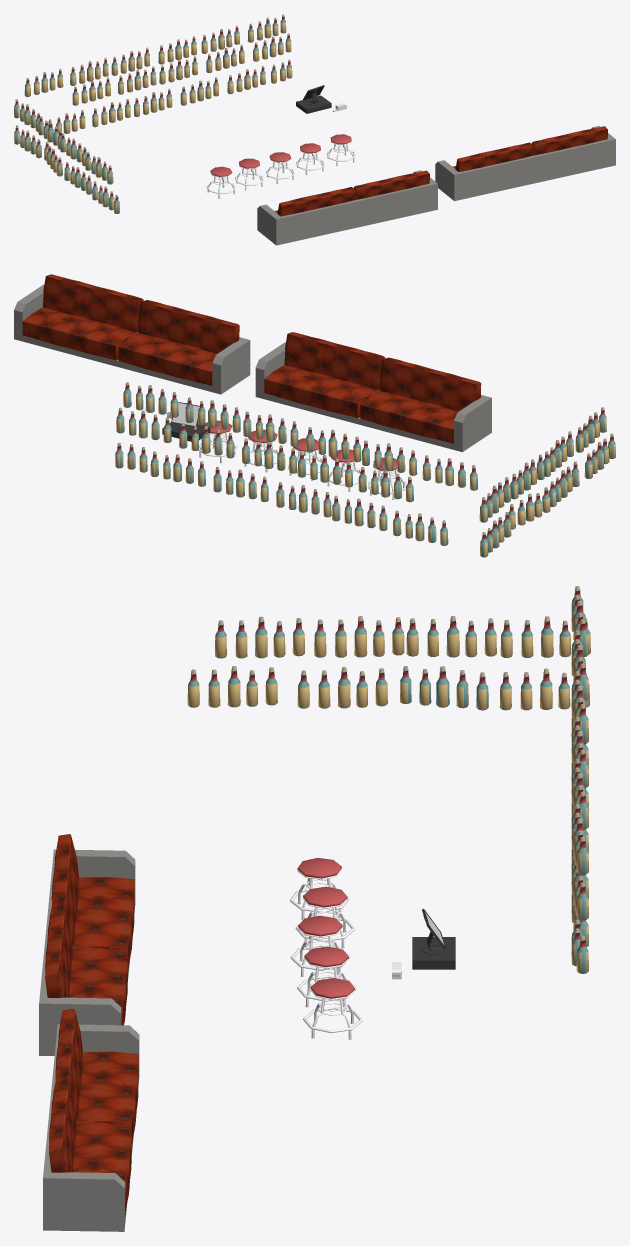
Rendered from FrontBar.fbx.
3 views of the same model, one above another, from view 1: azimuth 30°, elevation 25°; view 2: azimuth 150°, elevation 25°; view 3: azimuth 270°, elevation 25° (orthographic). The views are drawn at different scales.
Visible parts, largest first — view 1: FrontBar; view 2: FrontBar; view 3: FrontBar.
Part boxes in pixels (bbox=[...]): FrontBar: bbox=[14, 14, 615, 245]; FrontBar: bbox=[14, 274, 615, 557]; FrontBar: bbox=[39, 586, 590, 1231].
Bounding box in the file's own units: 2257 × 465 × 1149.
